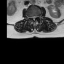CCS_normal: (33, 14, 34, 22)
LFS_stenosis: (36, 14, 38, 18)
LLS_normal: (34, 14, 36, 19)
RFS_stenosis: (29, 14, 31, 19)
RLS_normal: (31, 14, 33, 19)
